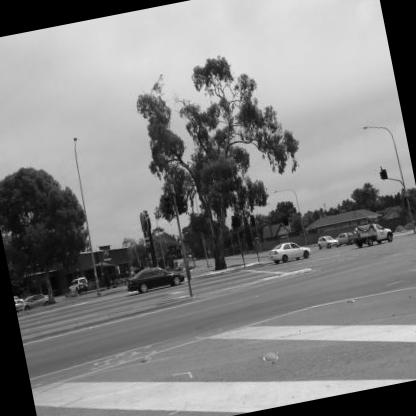car: (122, 257, 195, 301), (265, 238, 311, 272), (19, 286, 61, 314), (351, 222, 391, 251), (315, 235, 339, 255)
